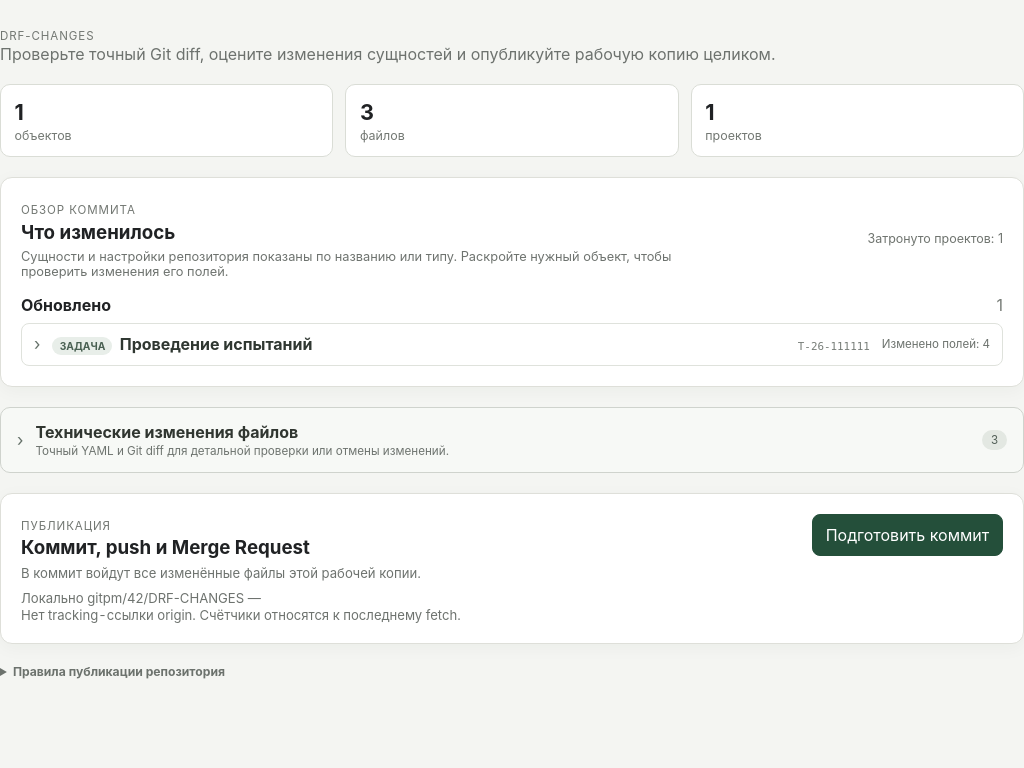
Test: Changes workspace › resolves person, milestone and task references in field values to display names
Click the text "Проведение испытаний": (216, 344) [120, 334, 312, 354]
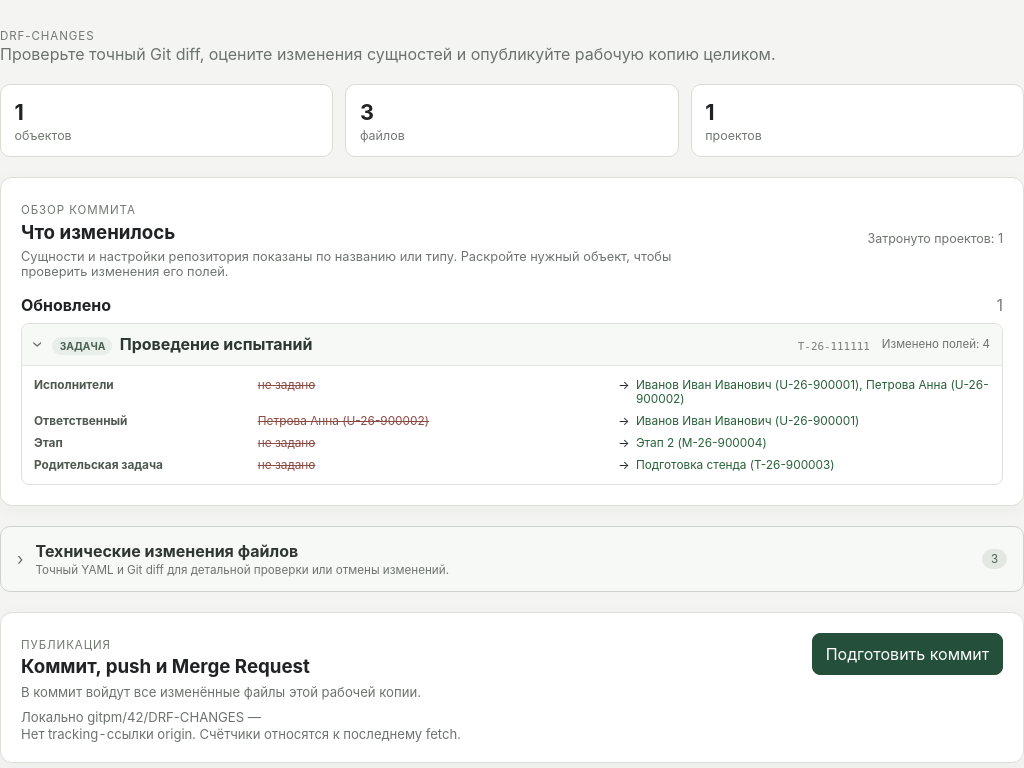
Check: the text "Иванов Иван Иванович (U-26-900001), Петрова Анна (U-26-900002)" is shown, box [636, 378, 990, 406]
Check: the text "Петрова Анна (U-26-900002)" is shown, box [258, 414, 429, 428]
Check: the text "Иванов Иван Иванович (U-26-900001)" is shown, box [636, 414, 859, 428]
